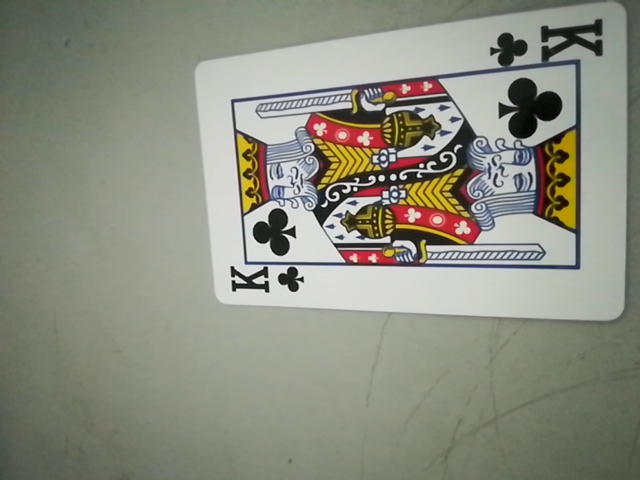mh k: (484, 16, 609, 71), (222, 261, 307, 302)
